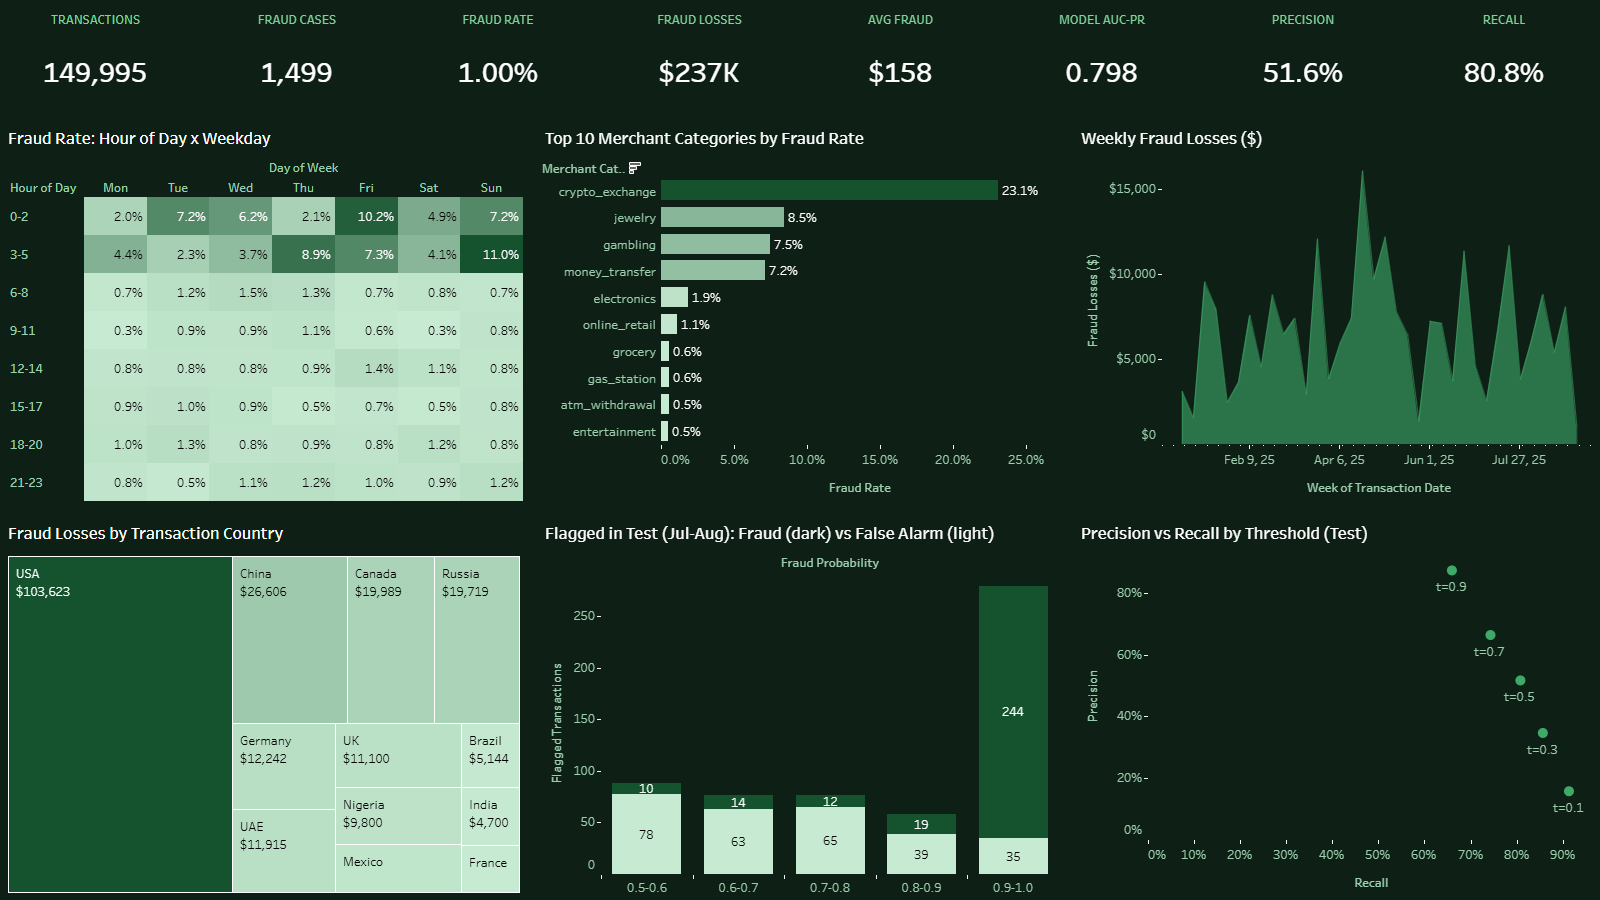

This screenshot's page, from the dashboard's own definition file:
{"tool":"tableau","page":{"name":"Fraud Detection Overview","canvas":[1600,900],"ordinal":0},"visuals":[{"type":"worksheet","title":"TRANSACTIONS","mark":"Text","box":[9.6,5.4,189.2,108]},{"type":"worksheet","title":"FRAUD CASES","mark":"Text","box":[208.4,5.4,189.2,108]},{"type":"worksheet","title":"FRAUD RATE","mark":"Text","box":[407.2,5.4,189.2,108]},{"type":"worksheet","title":"FRAUD LOSSES","mark":"Text","box":[606,5.4,189.2,108]},{"type":"worksheet","title":"AVG FRAUD","mark":"Text","box":[804.8,5.4,189.2,108]},{"type":"worksheet","title":"MODEL AUC-PR","mark":"Text","box":[1003.6,5.4,189.2,108]},{"type":"worksheet","title":"PRECISION","mark":"Text","box":[1202.4,5.4,189.2,108]},{"type":"worksheet","title":"RECALL","mark":"Text","box":[1401.2,5.4,189.2,108]},{"type":"worksheet","title":"Fraud Rate: Hour of Day x Weekday","mark":"Square","rows":["hour_band"],"cols":["weekday"],"box":[9.6,118.8,520.5,385.2]},{"type":"worksheet","title":"Top 10 Merchant Categories by Fraud Rate","mark":"Bar","rows":["merchant_category"],"cols":["fraud_rate"],"box":[539.7,118.8,520.5,385.2]},{"type":"worksheet","title":"Weekly Fraud Losses ($)","mark":"Area","rows":["fraud_amount"],"cols":["txn_date"],"box":[1069.9,118.8,520.5,385.2]},{"type":"worksheet","title":"Fraud Losses by Transaction Country","mark":"Square","box":[9.6,509.4,520.5,385.2]},{"type":"worksheet","title":"Flagged in Test (Jul-Aug): Fraud (dark) vs False Alarm (light)","mark":"Bar","rows":["transactions"],"cols":["probability_band"],"box":[539.7,509.4,520.5,385.2]},{"type":"worksheet","title":"Precision vs Recall by Threshold (Test)","mark":"Circle","rows":["precision"],"cols":["recall"],"box":[1069.9,509.4,520.5,385.2]}]}

Visuals, with their boxes in screenshot pixels (x1, y1, x2, y2), scaled from the page's 1600x900 canvas onto the 1600x900 screenshot:
"TRANSACTIONS" worksheet (Text marks): bbox=[10, 5, 199, 113]
"FRAUD CASES" worksheet (Text marks): bbox=[208, 5, 398, 113]
"FRAUD RATE" worksheet (Text marks): bbox=[407, 5, 596, 113]
"FRAUD LOSSES" worksheet (Text marks): bbox=[606, 5, 795, 113]
"AVG FRAUD" worksheet (Text marks): bbox=[805, 5, 994, 113]
"MODEL AUC-PR" worksheet (Text marks): bbox=[1004, 5, 1193, 113]
"PRECISION" worksheet (Text marks): bbox=[1202, 5, 1392, 113]
"RECALL" worksheet (Text marks): bbox=[1401, 5, 1590, 113]
"Fraud Rate: Hour of Day x Weekday" worksheet (Square marks): bbox=[10, 119, 530, 504]
"Top 10 Merchant Categories by Fraud Rate" worksheet (Bar marks): bbox=[540, 119, 1060, 504]
"Weekly Fraud Losses ($)" worksheet (Area marks): bbox=[1070, 119, 1590, 504]
"Fraud Losses by Transaction Country" worksheet (Square marks): bbox=[10, 509, 530, 895]
"Flagged in Test (Jul-Aug): Fraud (dark) vs False Alarm (light)" worksheet (Bar marks): bbox=[540, 509, 1060, 895]
"Precision vs Recall by Threshold (Test)" worksheet (Circle marks): bbox=[1070, 509, 1590, 895]
